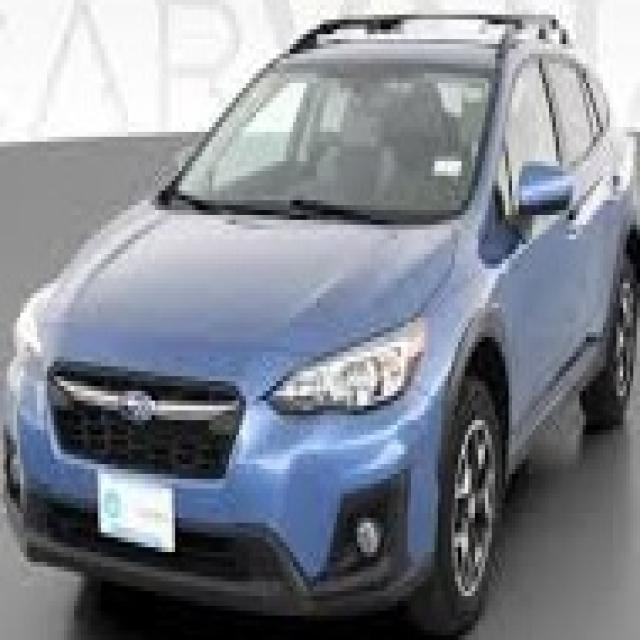blue: (8, 7, 640, 640)
